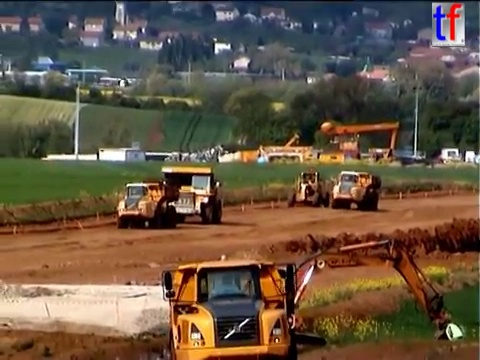crane: (319, 118, 402, 169)
excavator: (160, 236, 465, 360)
motor grader: (285, 167, 332, 209)
truck: (159, 262, 300, 360), (156, 164, 224, 226), (114, 178, 182, 231), (330, 169, 383, 212)
worker: (441, 316, 467, 354)
